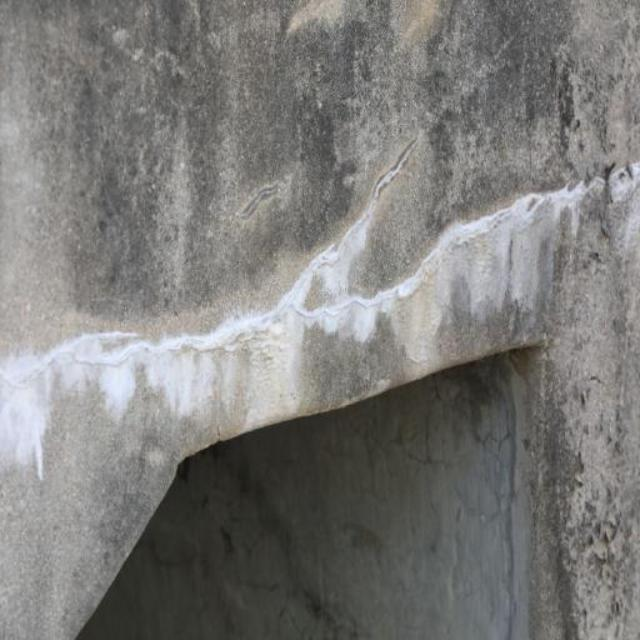D01: (0, 170, 603, 474)
